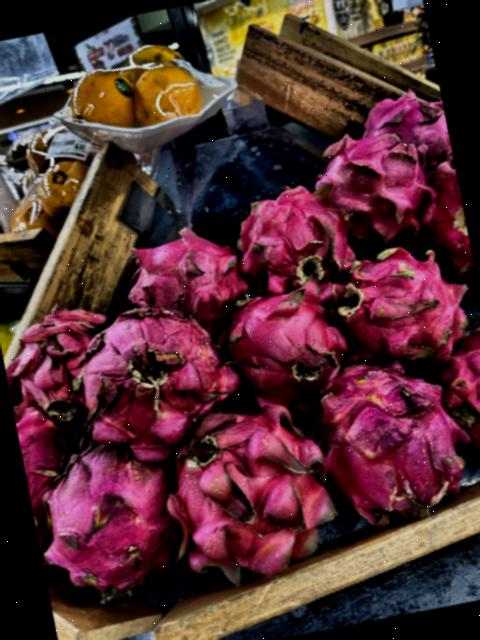buah-naga-matang: (166, 397, 363, 590), (306, 344, 480, 530), (34, 428, 192, 616), (60, 310, 252, 448), (299, 113, 442, 275), (321, 234, 477, 378), (207, 274, 354, 408), (110, 224, 268, 332), (221, 179, 360, 297), (0, 303, 122, 427), (350, 64, 454, 178)
